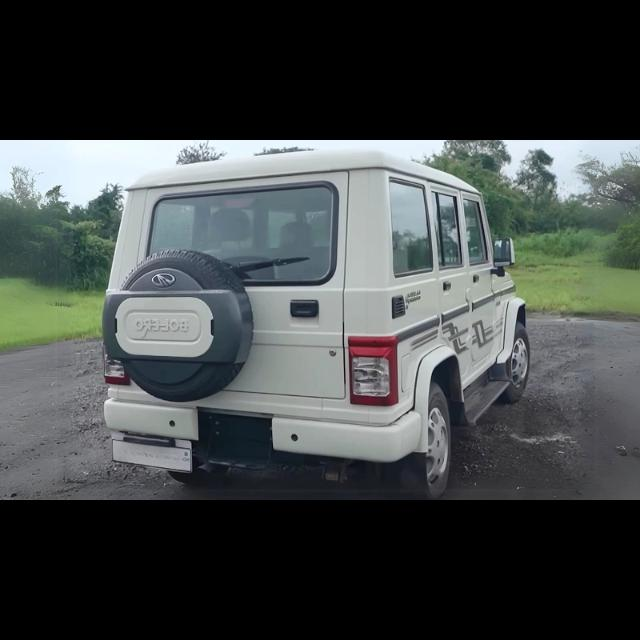number-plate: (111, 435, 196, 473)
vehicles: (96, 152, 537, 493)
